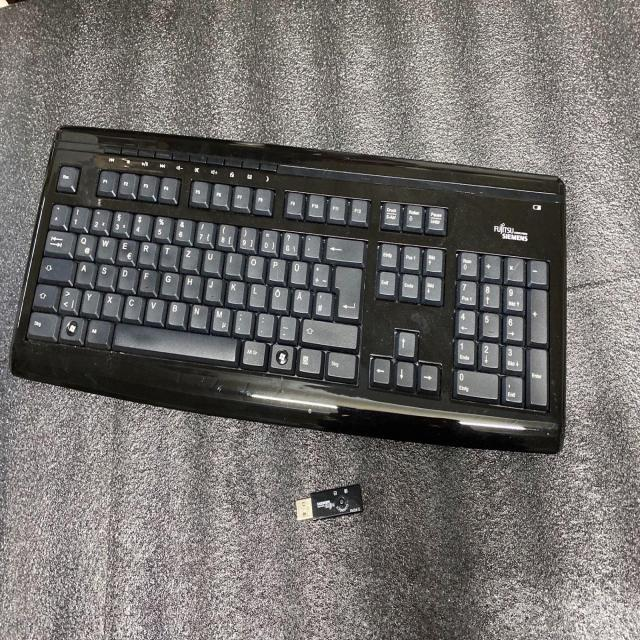0: (259, 227, 277, 252)
1: (69, 203, 88, 228)
2: (90, 206, 110, 231)
3: (110, 209, 130, 234)
4: (131, 211, 149, 235)
5: (152, 214, 171, 237)
6: (172, 216, 192, 241)
7: (195, 219, 214, 243)
8: (216, 222, 235, 247)
9: (237, 225, 256, 249)
a: (75, 259, 94, 283)
accent: (303, 232, 320, 257)
ae: (292, 286, 310, 312)
alt-left: (85, 318, 111, 345)
altgr-right: (241, 338, 266, 365)
b: (167, 299, 186, 324)
c: (122, 294, 142, 318)
caret: (49, 202, 68, 225)
comma: (233, 309, 252, 334)
d: (117, 265, 136, 289)
del: (324, 235, 364, 260)
e: (116, 236, 137, 262)
enter: (333, 263, 362, 318)
f: (138, 267, 156, 292)
g: (160, 270, 178, 294)
h: (182, 273, 201, 297)
hash: (314, 289, 332, 315)
i: (224, 250, 241, 274)
j: (204, 276, 222, 300)
k: (226, 278, 244, 303)
keyboard: (5, 124, 569, 456)
l: (248, 281, 265, 306)
less: (58, 284, 79, 311)
m: (211, 305, 230, 331)
minus: (278, 314, 296, 339)
n: (189, 303, 208, 328)
o: (245, 253, 263, 277)
oe: (269, 285, 287, 310)
p: (267, 256, 285, 280)
plus: (311, 261, 329, 286)
point: (255, 311, 274, 336)
q: (74, 232, 95, 257)
r: (138, 239, 157, 263)
s: (96, 262, 115, 286)
shift-left: (32, 282, 57, 308)
shift-lock: (37, 256, 72, 281)
shift-right: (300, 317, 357, 347)
space: (112, 323, 238, 362)
ss: (280, 230, 298, 255)
strg-left: (25, 310, 58, 337)
strg-right: (324, 350, 356, 378)
t: (159, 242, 178, 266)
tab: (43, 229, 74, 253)
u: (202, 248, 220, 272)
ue: (289, 258, 307, 283)
v: (145, 297, 164, 322)
w: (96, 234, 115, 259)
x: (102, 291, 121, 316)
y: (80, 288, 99, 313)
z: (180, 245, 199, 268)
